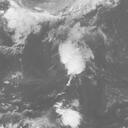cyclone: (57, 40, 91, 76)
